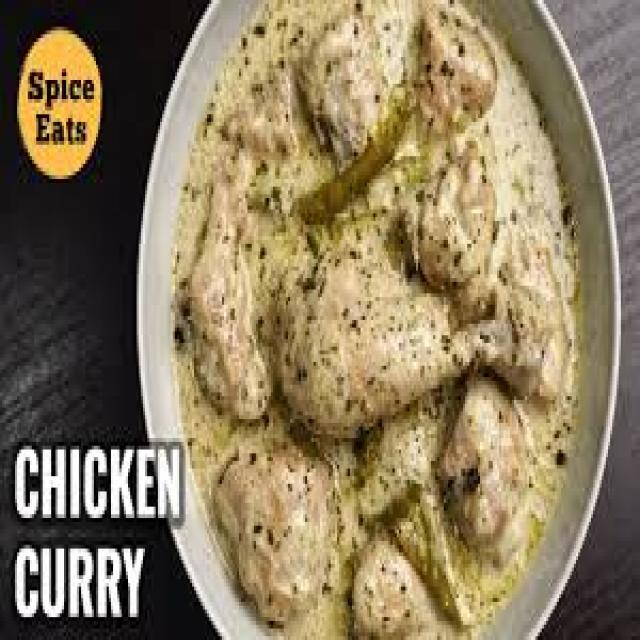Chicken Curry: (177, 4, 578, 640)
